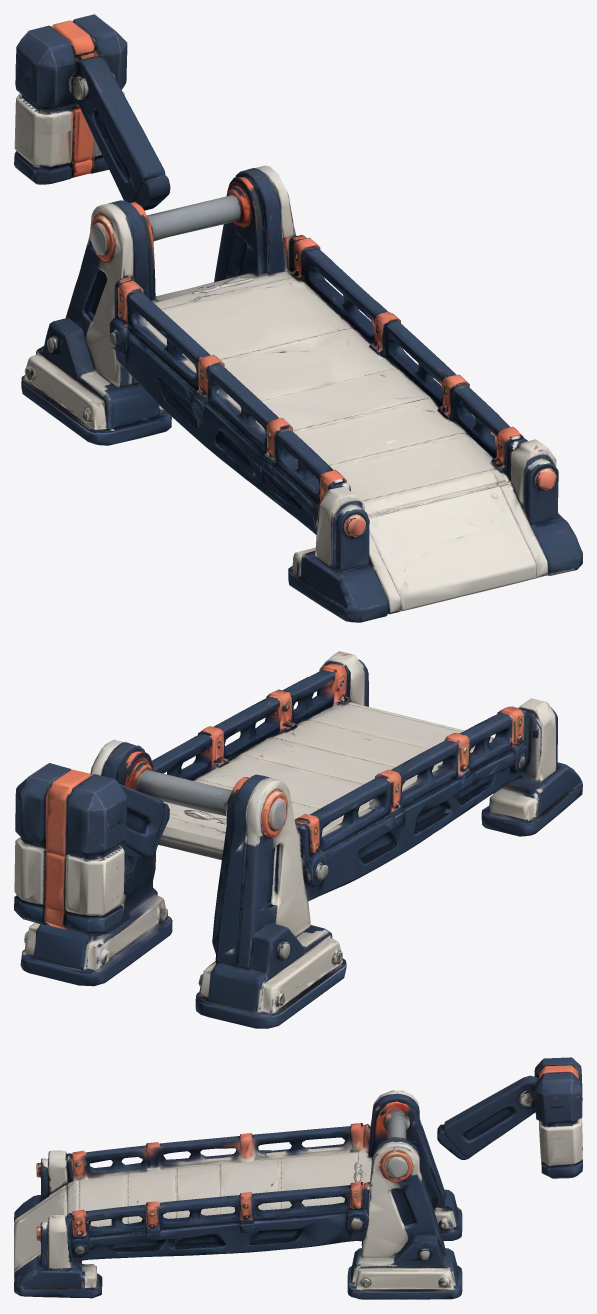
File: model-30-counterweight-bridge.glb
3 views of the same model, one above another, from view 1: azimuth 30°, elevation 25°; view 2: azimuth 150°, elevation 25°; view 3: azimuth 270°, elevation 25° (orthographic). The views are drawn at different scales.
Parts seen in each view (by area): view 1: node_0; view 2: node_0; view 3: node_0.
Boxes of the visible parts, x1,y1,x2,y2 form: node_0: (14,14,582,622); node_0: (14,651,582,1028); node_0: (14,1057,582,1299).
Size of the model in its own units: 0.3893 by 0.4002 by 1.09.
Materials: 1 (1 with a texture image).
